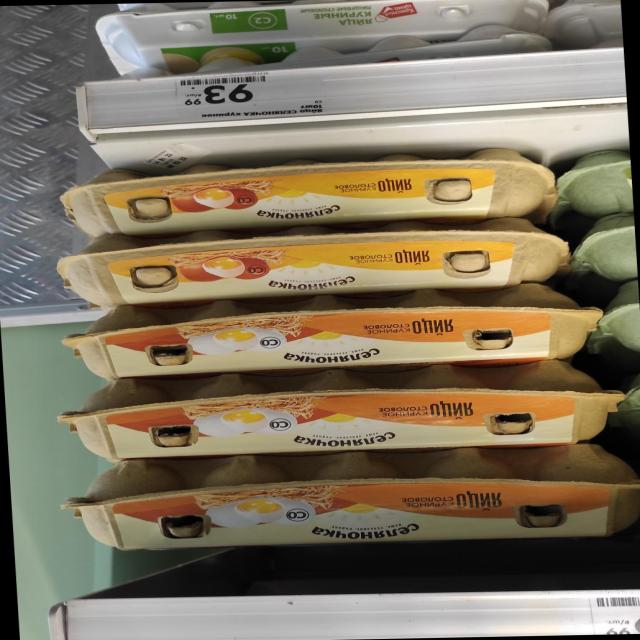organic waste: (59, 445, 639, 556), (55, 364, 620, 459), (58, 288, 599, 378), (52, 219, 573, 306), (58, 152, 554, 233), (88, 0, 545, 64), (558, 153, 633, 214), (574, 213, 638, 284), (600, 283, 640, 355), (618, 355, 640, 437)
